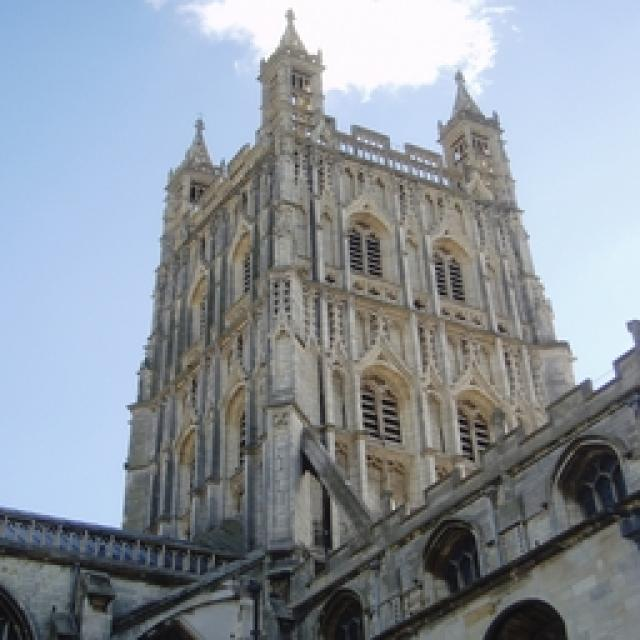Abbey: (160, 29, 591, 582)
